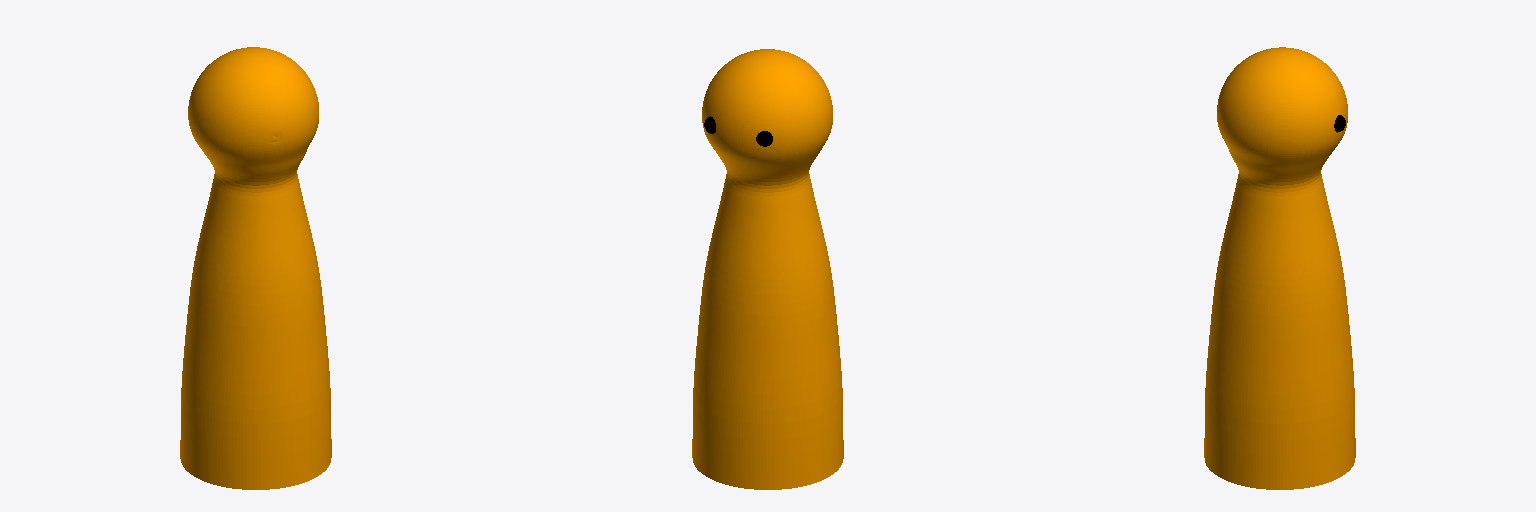
File: figure.obj
3 renders of one model, left to right at view 1: azimuth 30°, elevation 25°; view 2: azimuth 150°, elevation 25°; view 3: azimuth 270°, elevation 25°, orthographic.
Parts seen in each view (by area): view 1: Sphere; view 2: Sphere; view 3: Sphere.
Part boxes in pixels (x1,y1,x2,y2): Sphere: (180, 47, 331, 489); Sphere: (692, 49, 843, 489); Sphere: (1204, 47, 1355, 489).
Size of the model in its own units: 0.7932 by 2.34 by 0.7932.